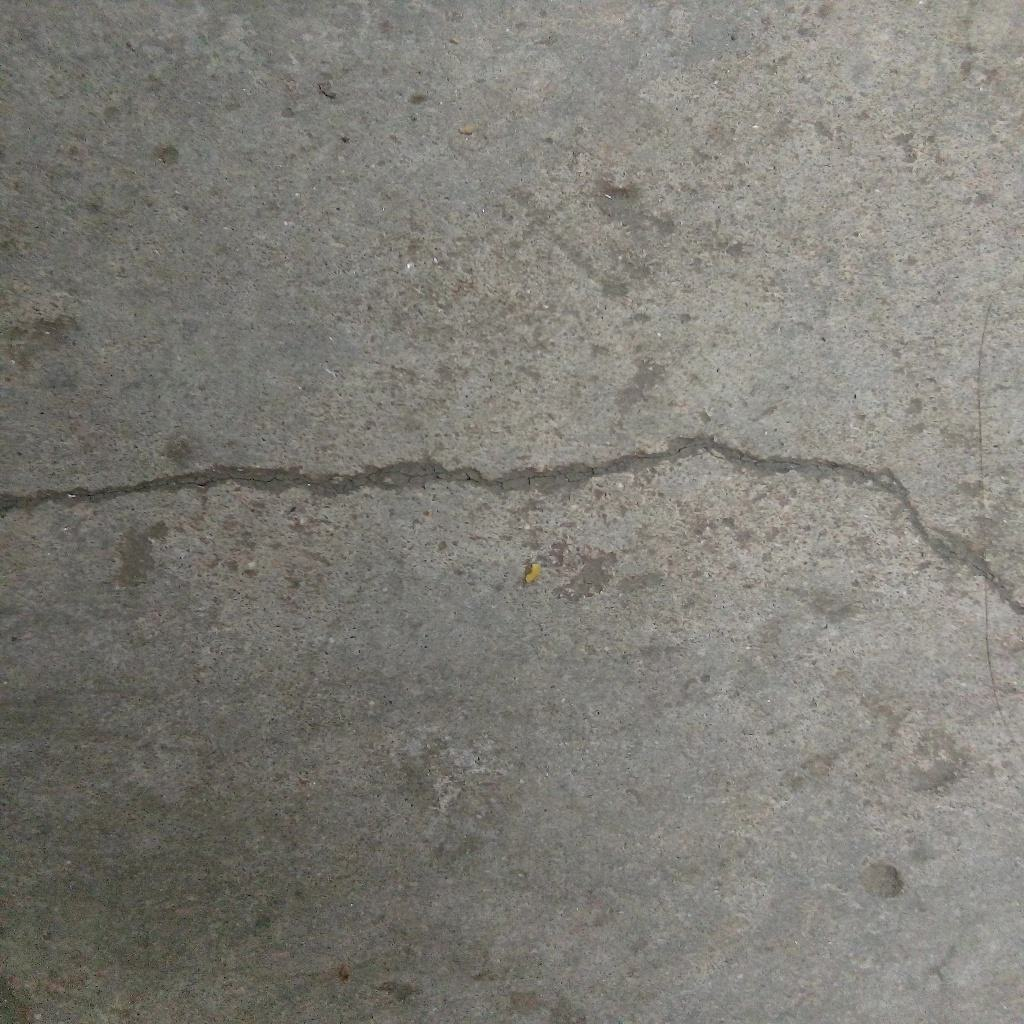Crack: (1, 434, 1024, 619)
